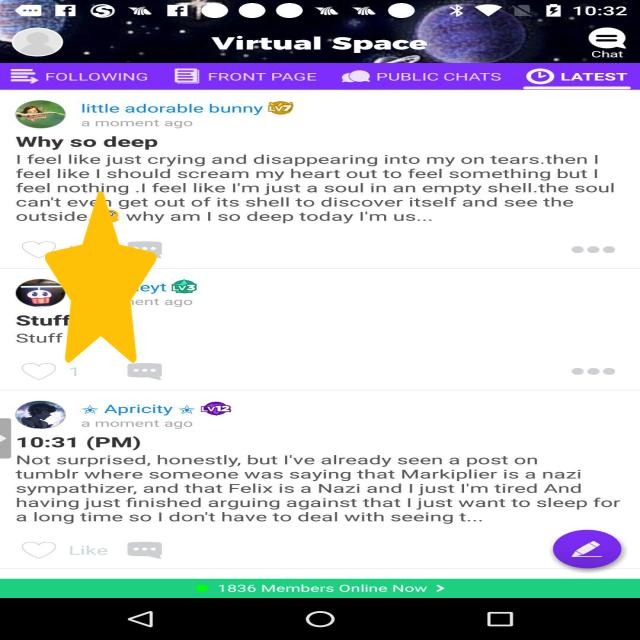forced continuity: (45, 191, 156, 363)
